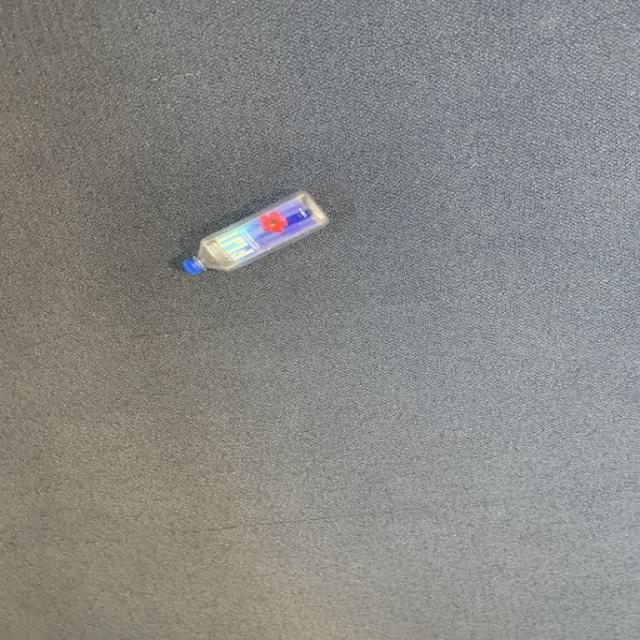Waste: (182, 193, 329, 275)
